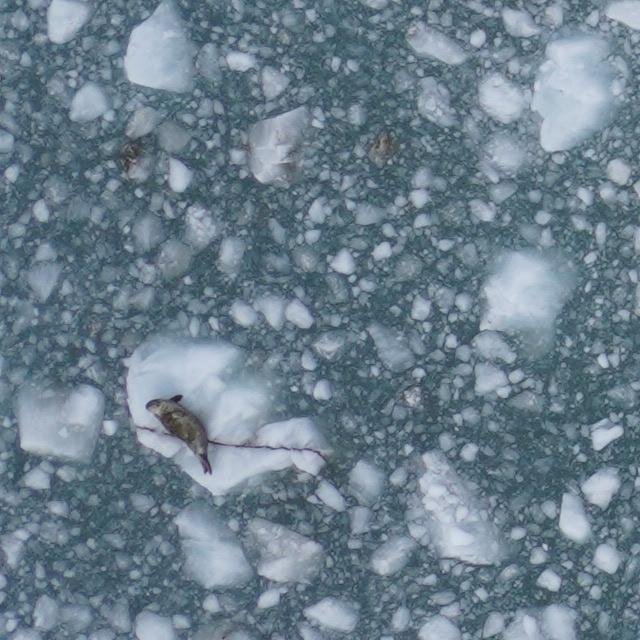seal: (142, 390, 216, 480)
